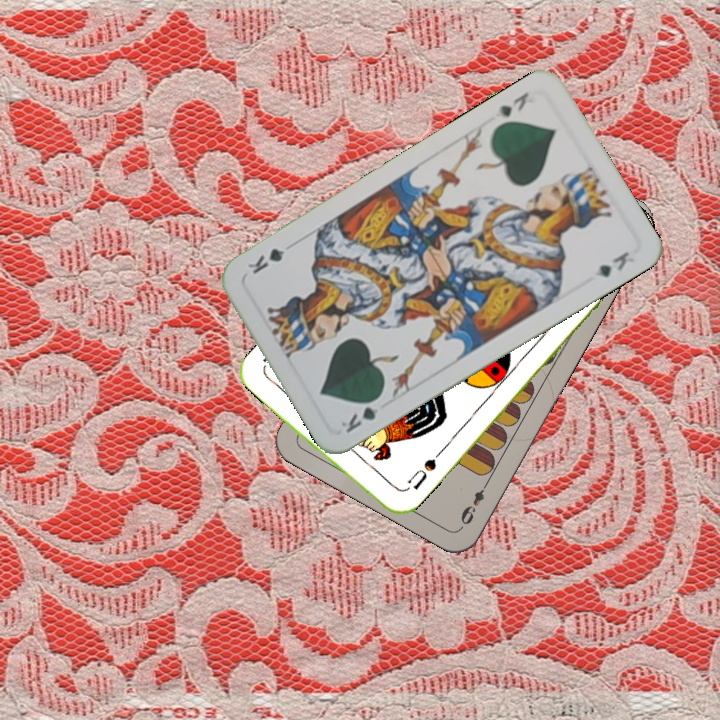E9: (456, 476, 492, 530)
GK: (336, 391, 386, 436), (495, 87, 532, 120)
SU: (404, 455, 439, 492)
